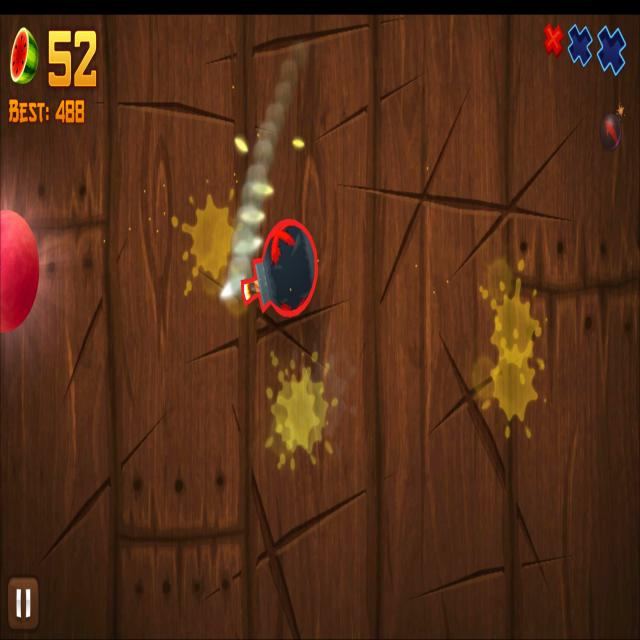bomb: (240, 218, 319, 316)
fruit: (0, 207, 40, 334)
